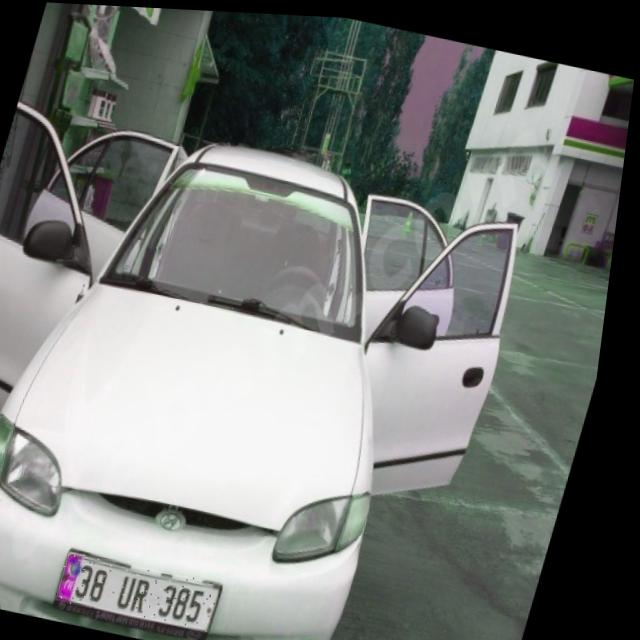license_plate: (68, 549, 239, 630)
